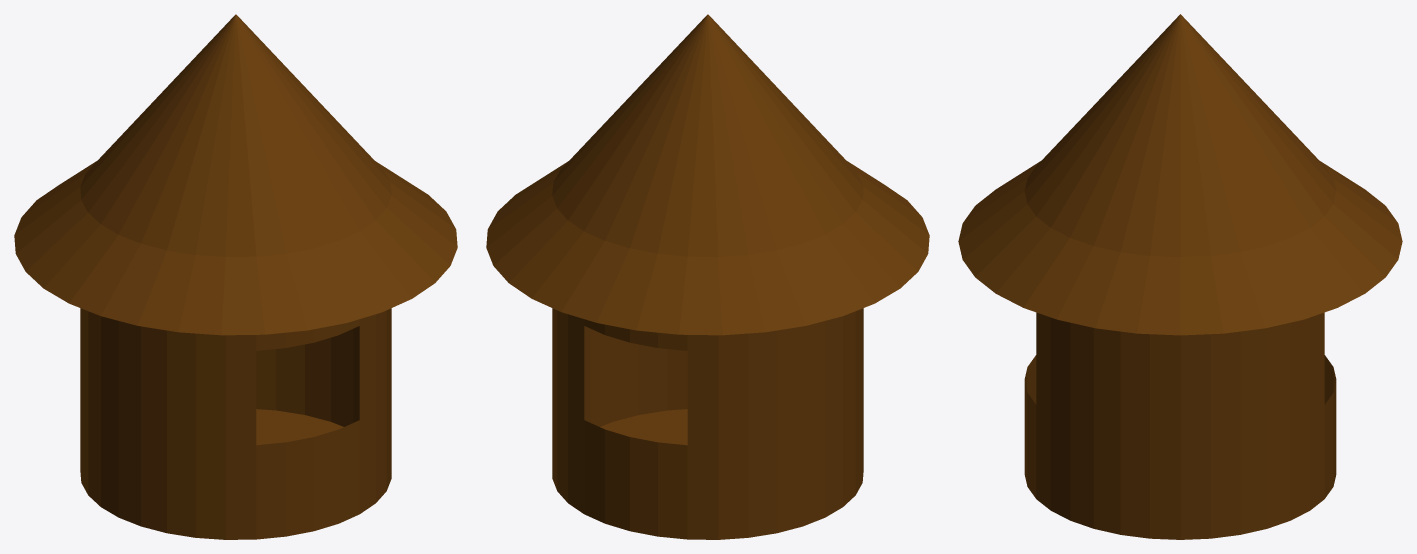
File: Circular House.obj
3 views of the same model, side by side, from view 1: azimuth 30°, elevation 25°; view 2: azimuth 150°, elevation 25°; view 3: azimuth 270°, elevation 25° (orthographic).
Visible parts, largest first — view 1: Cylinder; view 2: Cylinder; view 3: Cylinder.
Boxes of the visible parts, x1,y1,x2,y2 form: Cylinder: (14,14,457,539); Cylinder: (486,14,929,539); Cylinder: (958,14,1402,539).
Size of what is drawn, in the model's own units: 2.85 by 3.25 by 2.85.
